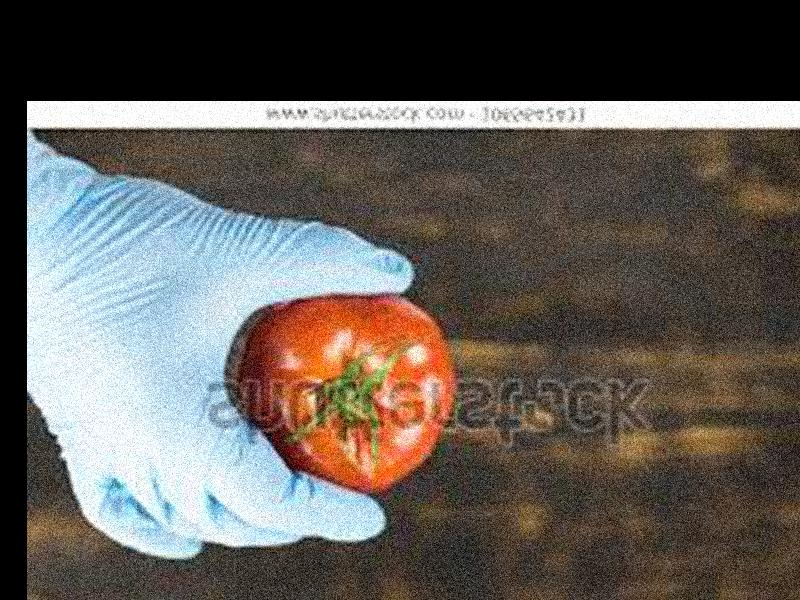Tomato: (236, 292, 458, 493)
